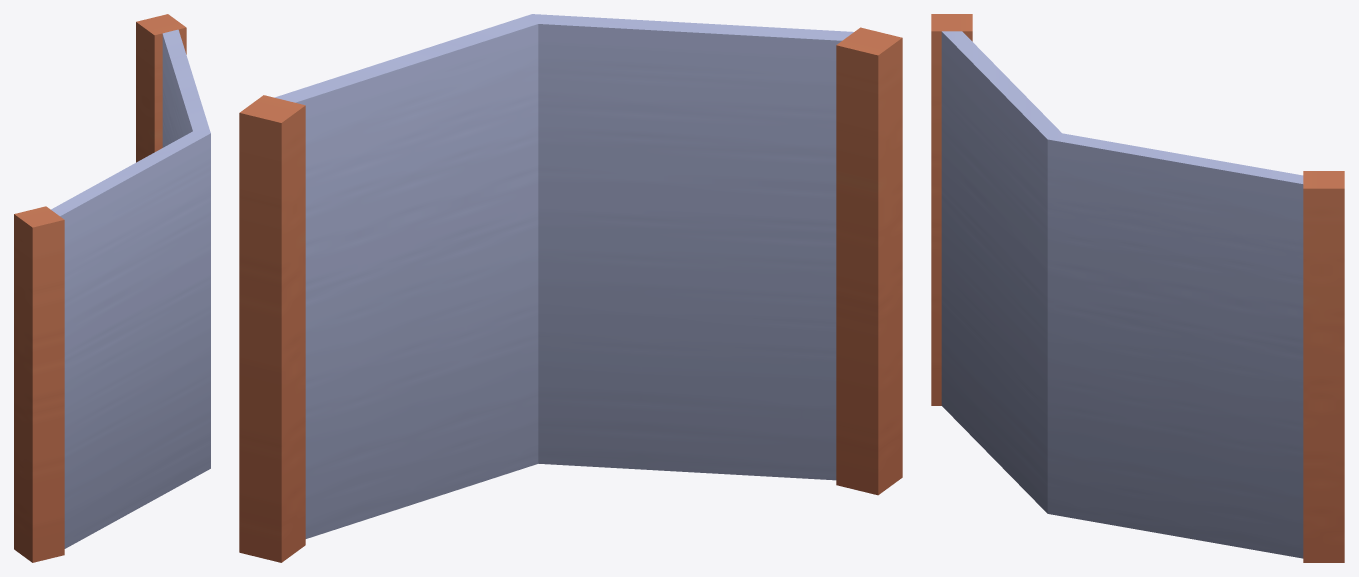
The model's file is wallCornerEdge.fbx.
3 views of the same model, side by side, from view 1: azimuth 30°, elevation 25°; view 2: azimuth 150°, elevation 25°; view 3: azimuth 270°, elevation 25° (orthographic). The views are drawn at different scales.
Visible parts, largest first — view 1: wallCornerEdge; view 2: wallCornerEdge; view 3: wallCornerEdge.
Part boxes in pixels (box(x1,y1,x2,y2)): wallCornerEdge: box(14, 14, 210, 562); wallCornerEdge: box(239, 14, 902, 562); wallCornerEdge: box(931, 14, 1344, 562).
Size of the model in its own units: 1 by 1 by 1.
